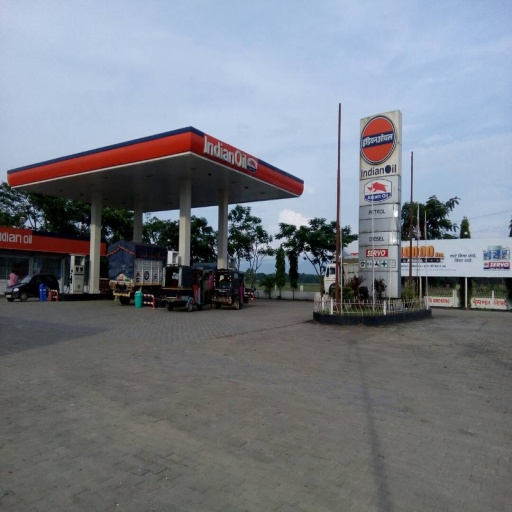roof: (7, 125, 305, 213)
